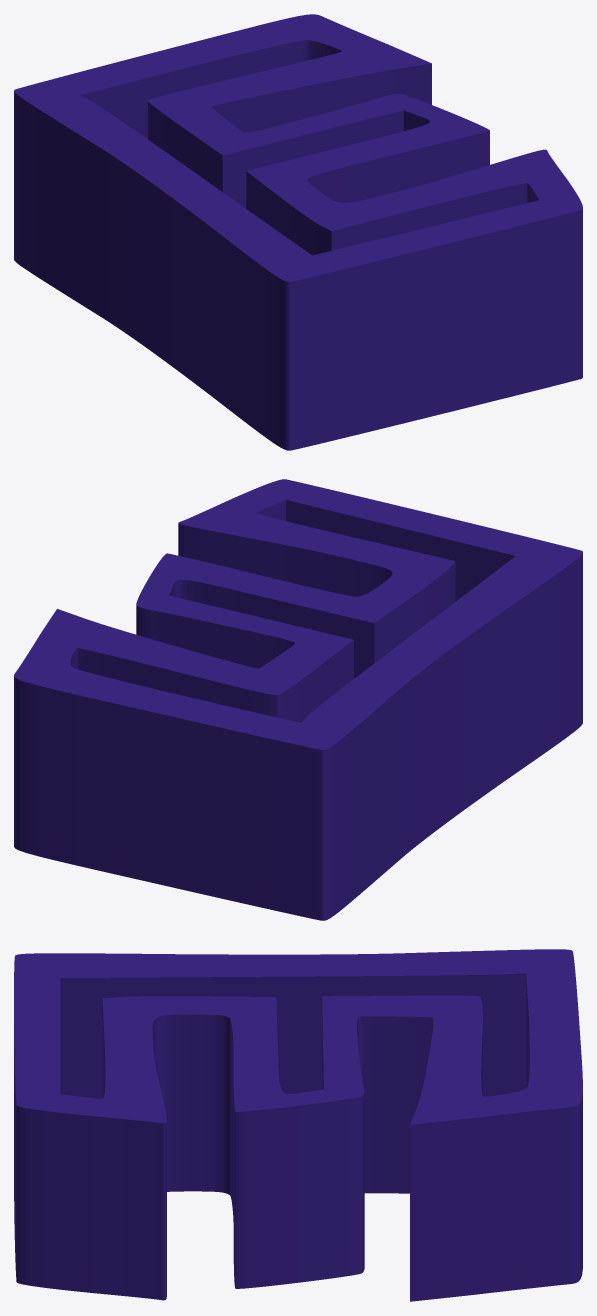
3 views of the same model, one above another, from view 1: azimuth 30°, elevation 25°; view 2: azimuth 150°, elevation 25°; view 3: azimuth 270°, elevation 25° (orthographic). The views are drawn at different scales.
Visible parts, largest first — view 1: Curve.005; view 2: Curve.005; view 3: Curve.005.
Part boxes in pixels (left/top/right/bottom): Curve.005: left=14, top=14, right=582, bottom=450; Curve.005: left=14, top=479, right=582, bottom=920; Curve.005: left=14, top=949, right=582, bottom=1301.
Size of the model in its own units: 0.696 by 0.3271 by 0.9532.
